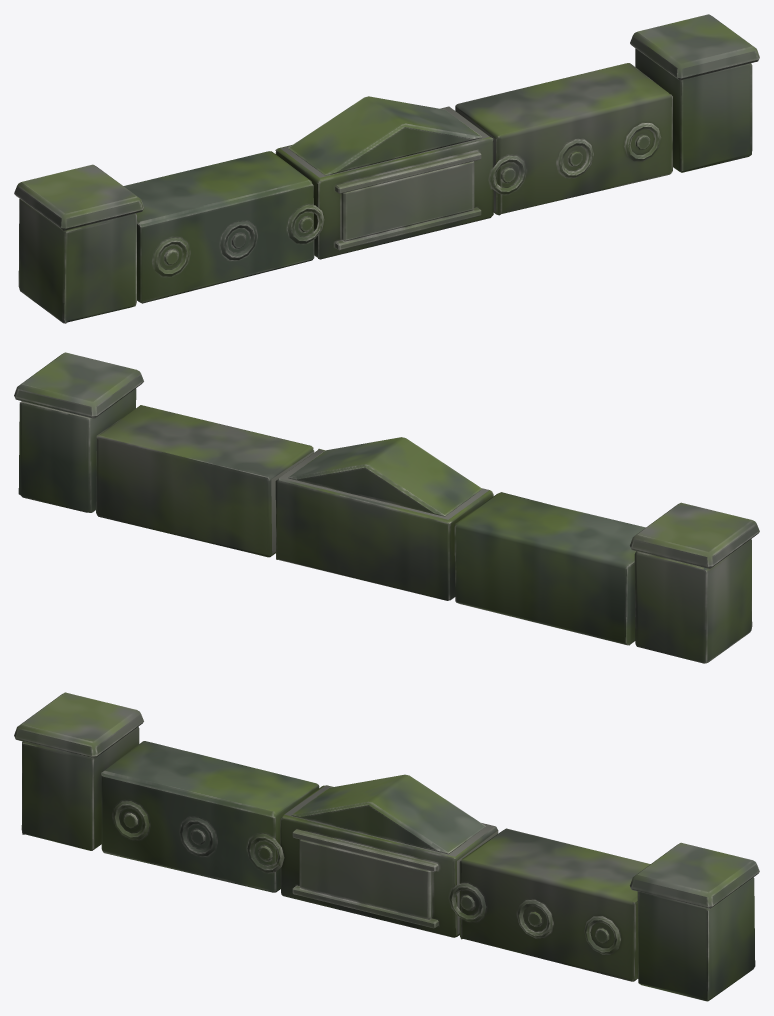
Rendered from crypt_gate_lintel.glb.
3 views of the same model, one above another, from view 1: azimuth 30°, elevation 25°; view 2: azimuth 150°, elevation 25°; view 3: azimuth 330°, elevation 25° (orthographic).
Parts seen in each view (by area): view 1: crypt_gate_lintel; view 2: crypt_gate_lintel; view 3: crypt_gate_lintel.
Part boxes in pixels (<box>): crypt_gate_lintel: <box>14,14,759,323</box>; crypt_gate_lintel: <box>14,352,759,663</box>; crypt_gate_lintel: <box>14,692,759,1001</box>.
Bounding box in the file's own units: 9.08 × 1.42 × 1.14.
1 material, 1 textured.
